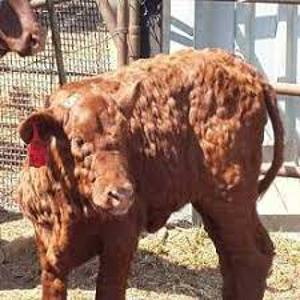lumpy skin diesease: (13, 46, 285, 299)
